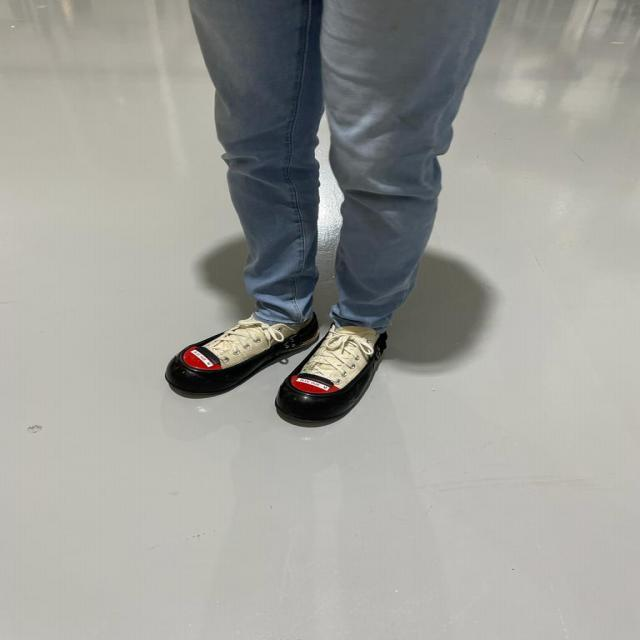shoes: (168, 293, 316, 407), (266, 322, 396, 429), (460, 410, 460, 411)
